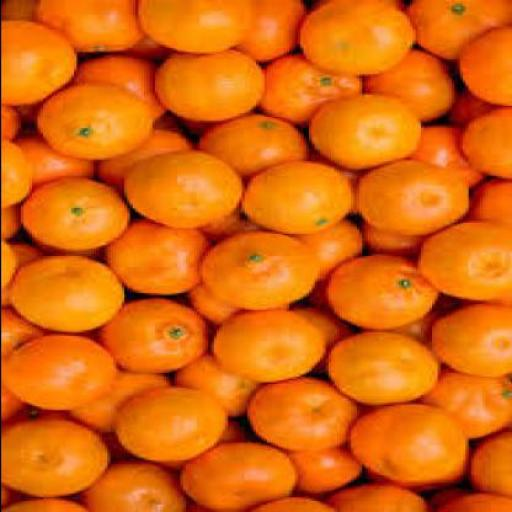biodegradable: (2, 0, 511, 512), (355, 401, 473, 484), (123, 148, 246, 226), (204, 228, 322, 308), (98, 294, 212, 374), (2, 333, 120, 410), (327, 252, 442, 329), (299, 0, 420, 73), (115, 384, 230, 460), (14, 252, 126, 330), (154, 46, 266, 123), (40, 83, 152, 159), (252, 375, 361, 451), (182, 439, 297, 511), (3, 419, 111, 495), (104, 217, 212, 293), (330, 330, 442, 402), (360, 158, 472, 230), (26, 174, 134, 248), (314, 93, 422, 167), (258, 52, 364, 124), (216, 310, 328, 378), (423, 219, 511, 299), (64, 369, 176, 431), (2, 16, 82, 102), (367, 48, 459, 122), (70, 54, 170, 121), (135, 0, 263, 52), (199, 115, 313, 171), (431, 300, 511, 377), (94, 127, 196, 183), (34, 0, 148, 50), (411, 0, 511, 57), (436, 363, 510, 439), (79, 459, 187, 510), (12, 126, 98, 189), (11, 408, 123, 455), (179, 352, 258, 418), (290, 219, 367, 278), (420, 122, 487, 189), (240, 0, 310, 62), (294, 306, 358, 373), (311, 150, 375, 212), (358, 303, 454, 343), (464, 24, 512, 104), (193, 284, 291, 323), (3, 238, 56, 304), (464, 106, 512, 178), (297, 447, 363, 492), (328, 482, 434, 510), (364, 219, 431, 256), (472, 431, 510, 495), (3, 134, 34, 206), (466, 176, 511, 220), (448, 82, 492, 126), (3, 308, 47, 350), (433, 491, 511, 511), (249, 496, 342, 510), (428, 486, 479, 506), (9, 499, 97, 510), (2, 236, 20, 287), (3, 101, 25, 141), (3, 386, 25, 421), (3, 200, 22, 238), (224, 419, 255, 441), (5, 1, 39, 20)
